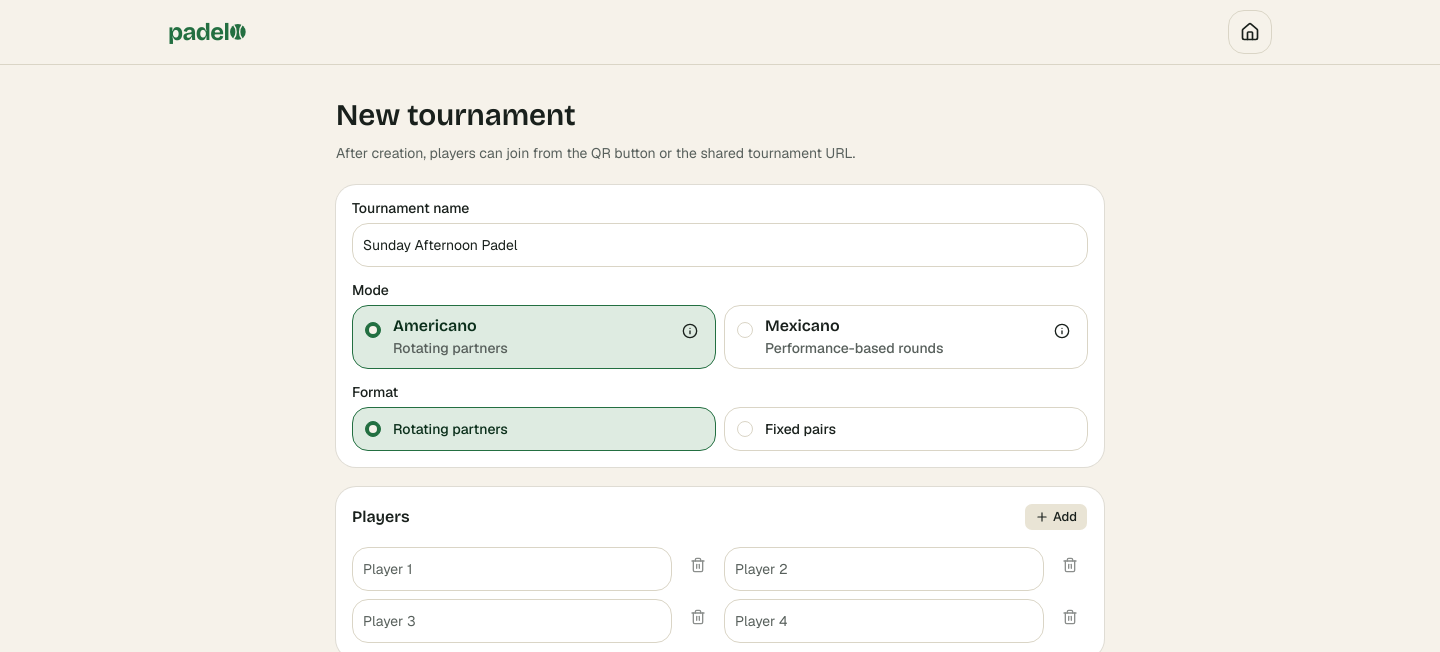
NewTournamentPage › adds and removes whole pairs and supports Enter navigation
Click the radio button named "Fixed pairs" next to "Fixed pairs" at [745, 429], box [737,421,753,437]
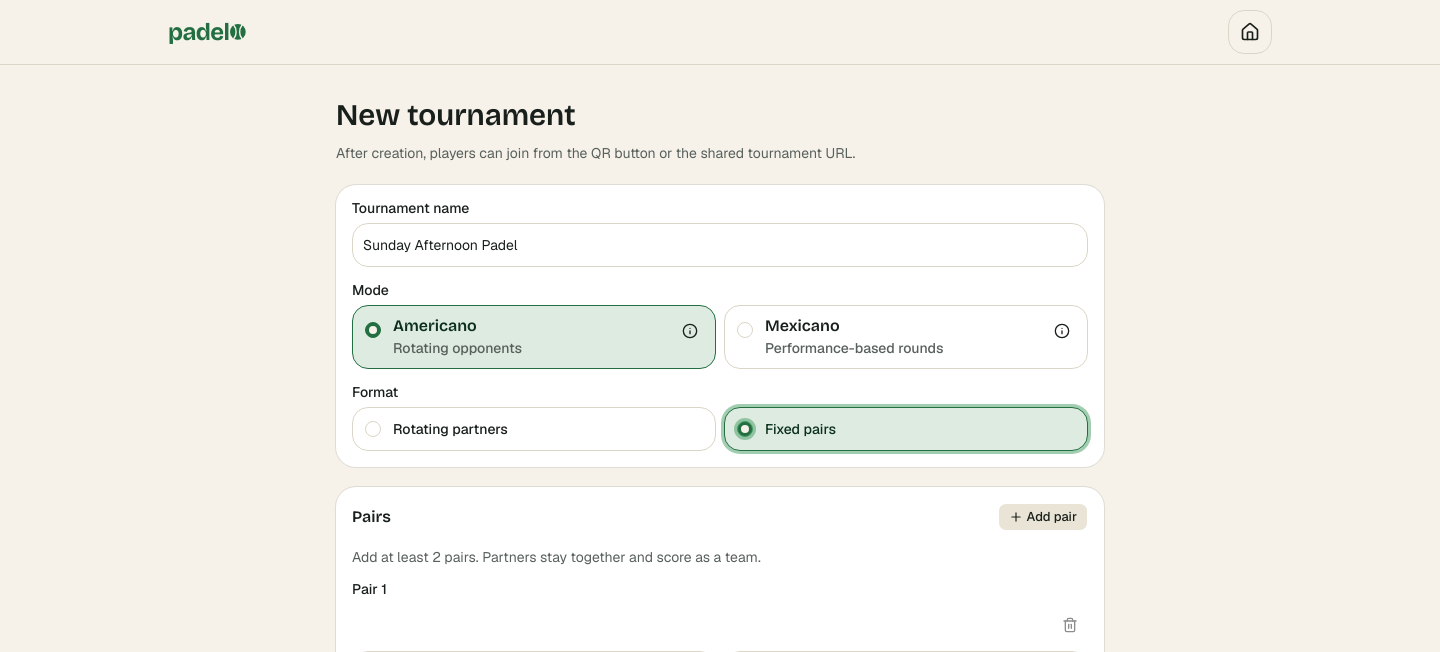
Expected: the button named "Remove pair 1" is disabled, [1052,607,1088,643]
Click the button "Add pair" at [1043, 517], box [998,503,1088,531]
(page scrolled)
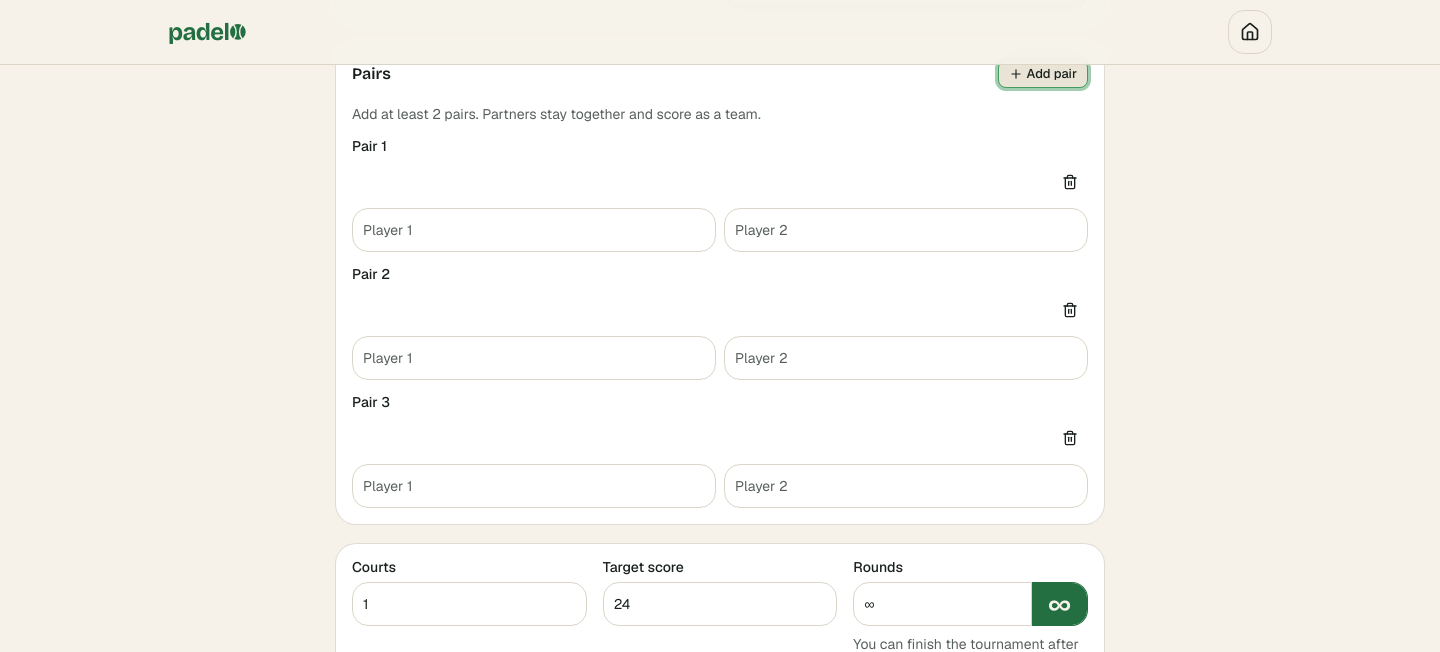
Type "Eli" into the field named "Pair 3, player 1" at [534, 486], box [352,464,716,508]
Then press Enter
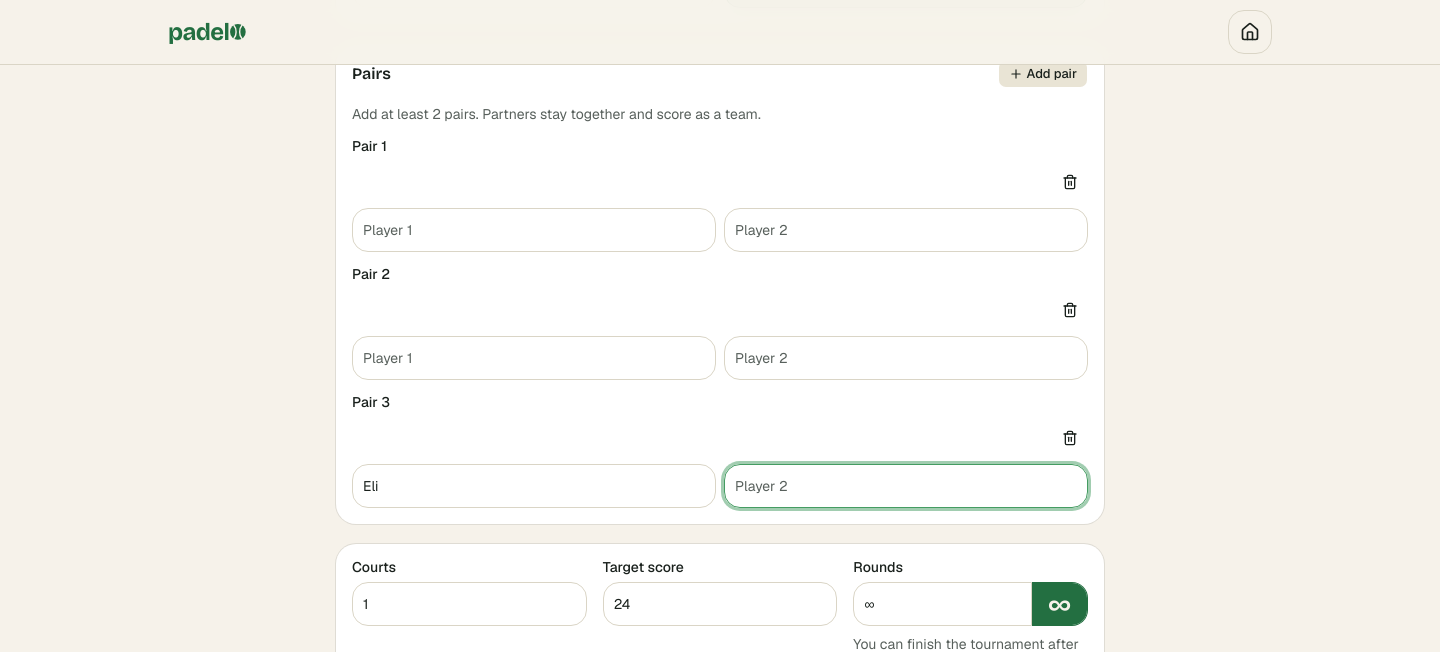
Type keys "Fatima{Enter}"
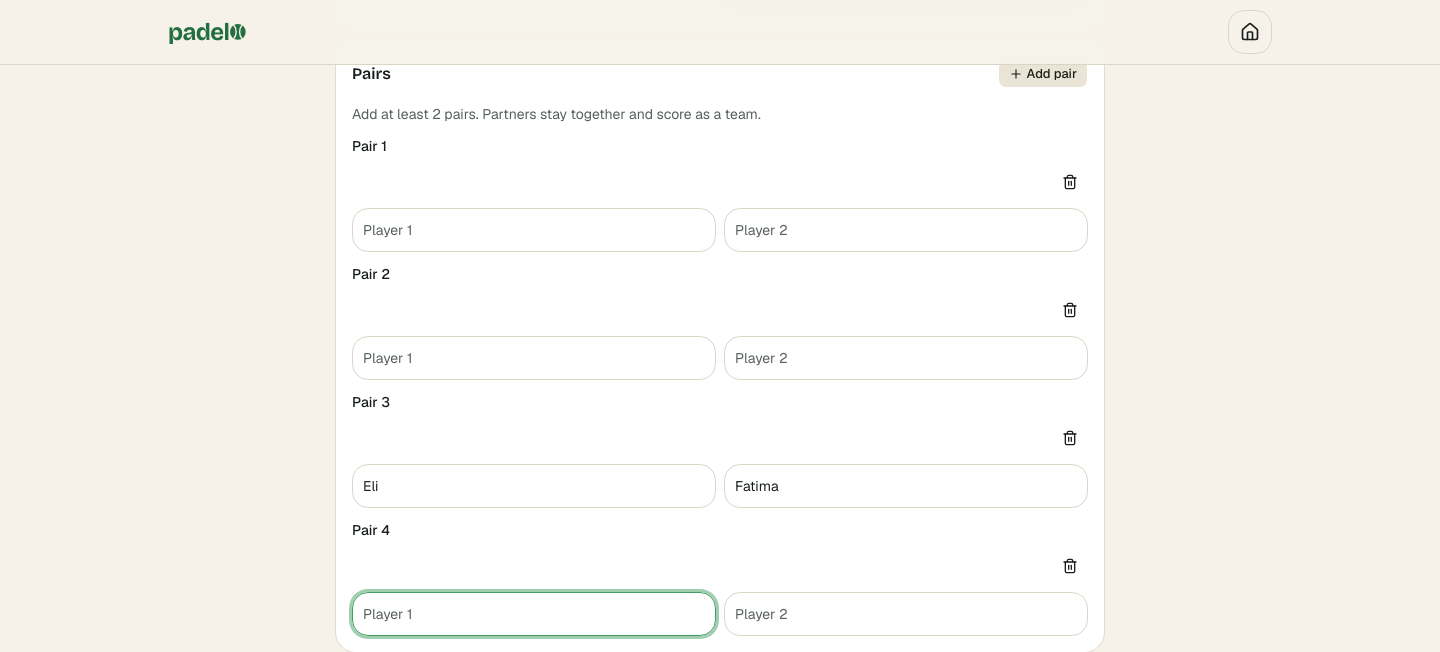
Expected: the field named "Pair 4, player 2" is shown, [724,592,1088,636]
Click the button named "Remove pair 2" at [1070, 310], box [1052,292,1088,328]
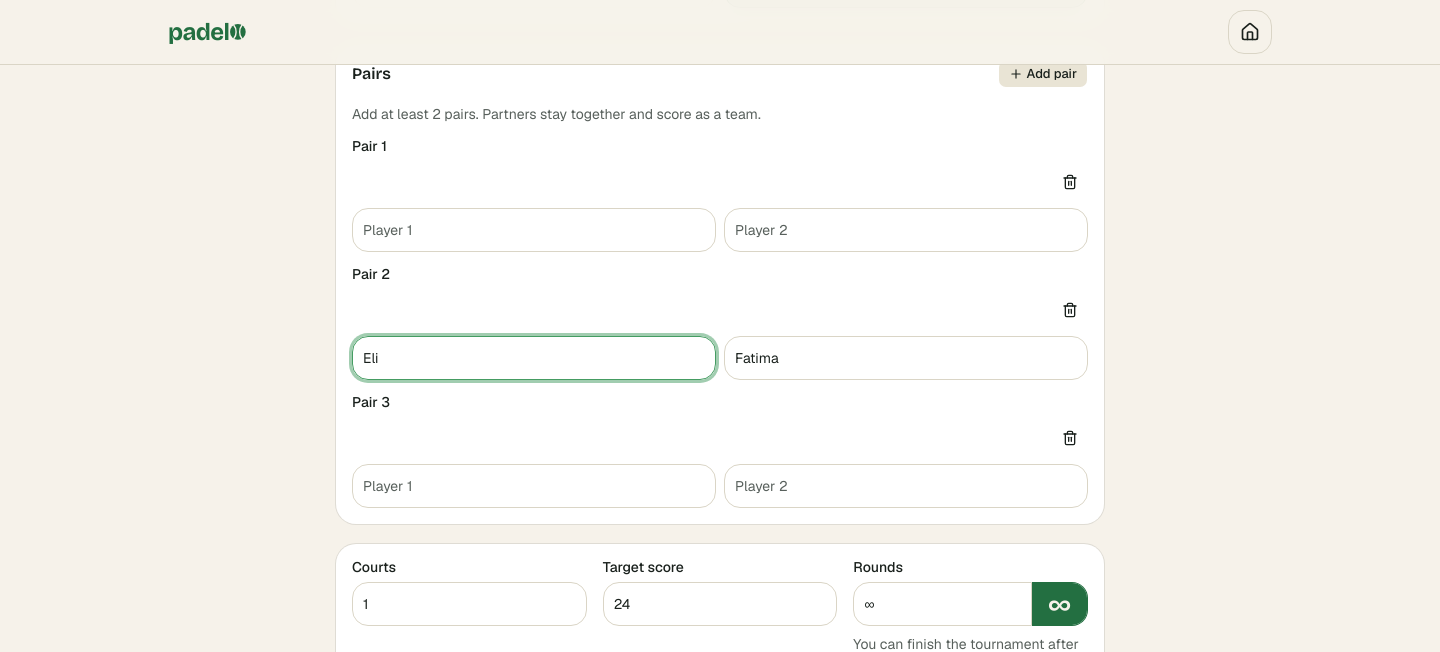
Expected: the field named "Pair 2, player 1" holds "Eli", [352,336,716,380]
Expected: the field named "Pair 2, player 2" holds "Fatima", [724,336,1088,380]
